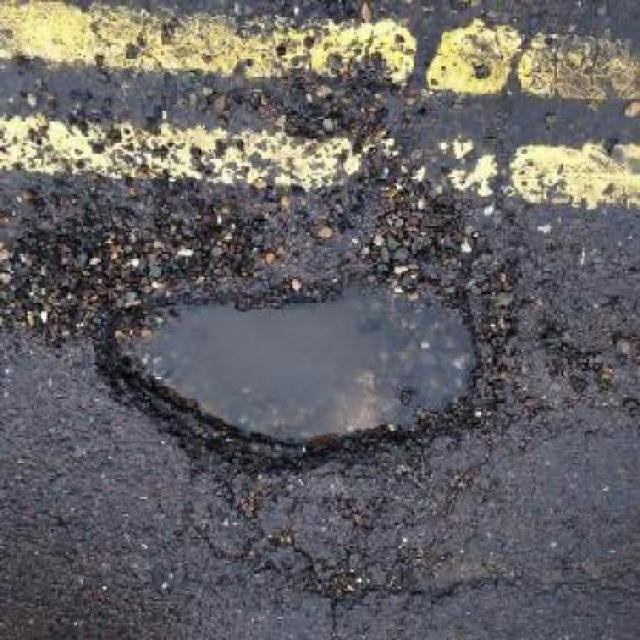pothole: (90, 256, 512, 482)
